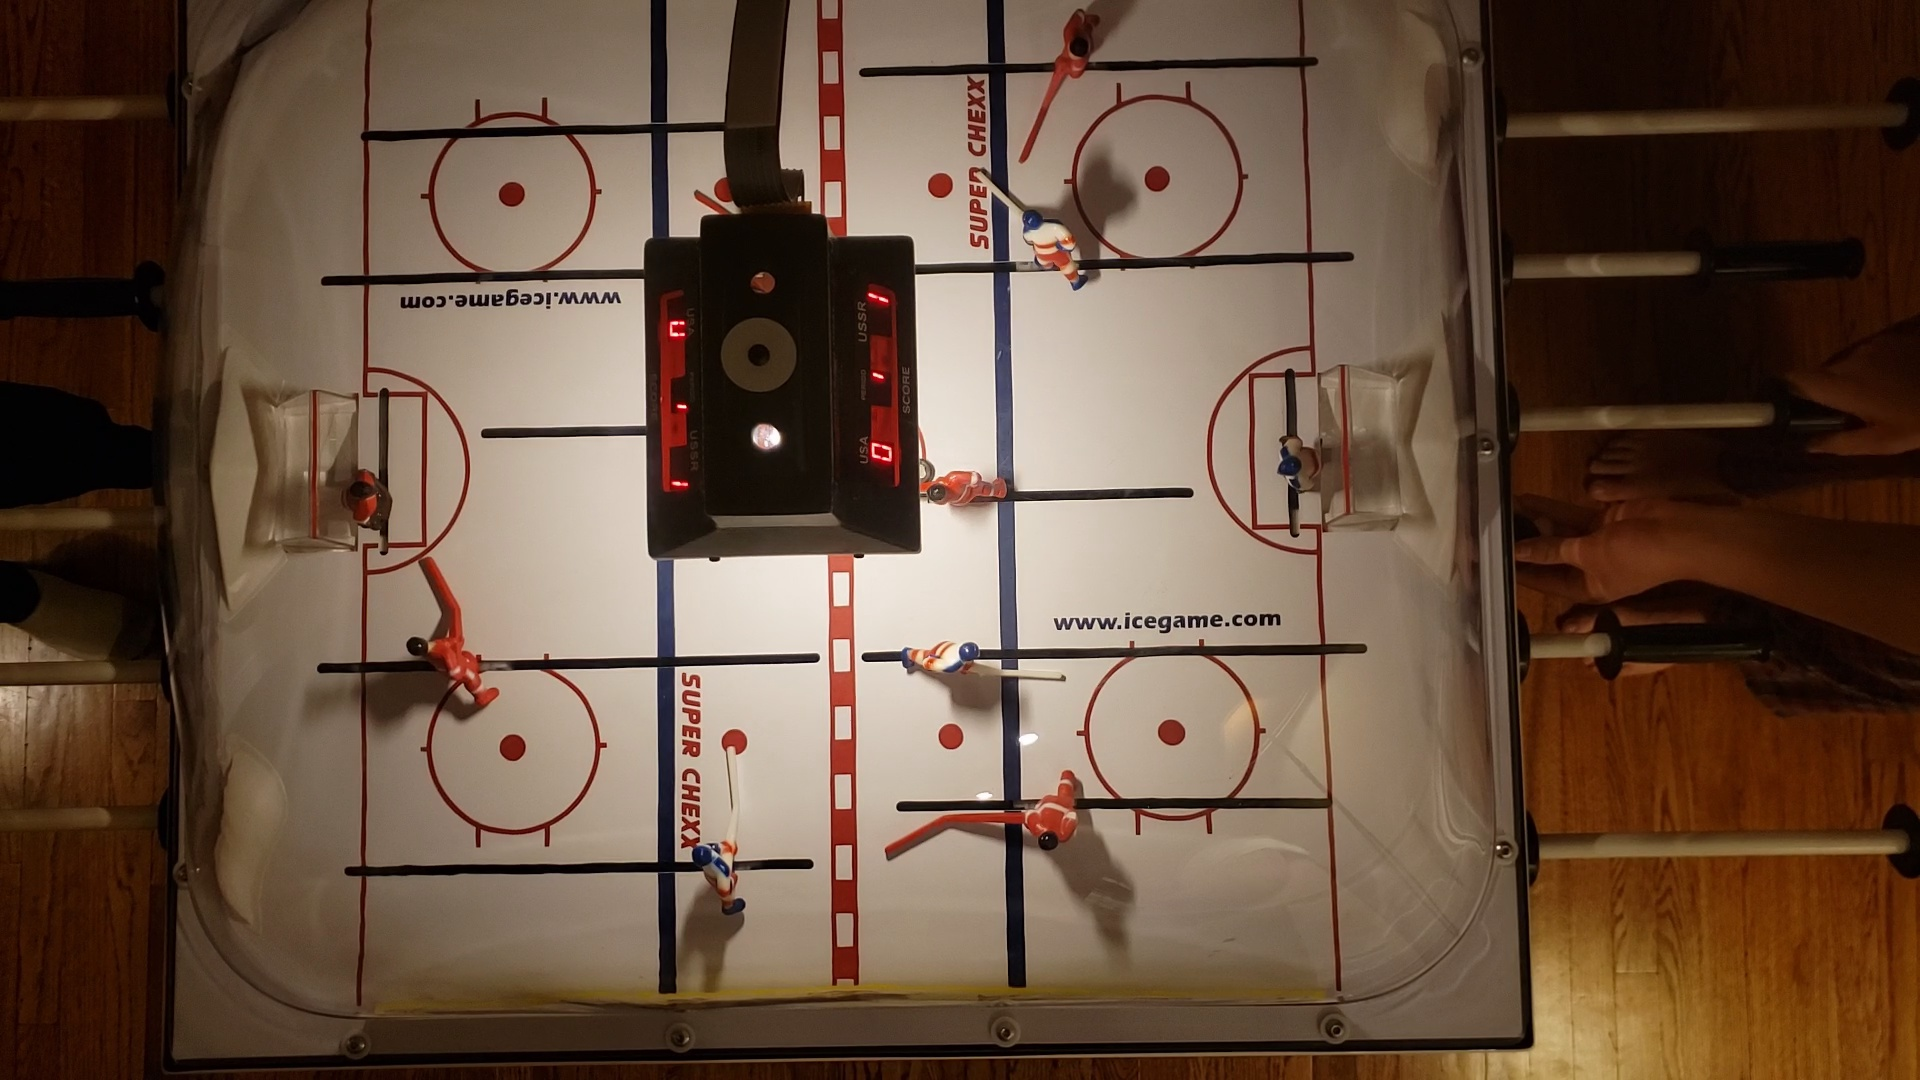puck: (916, 459, 934, 480)
